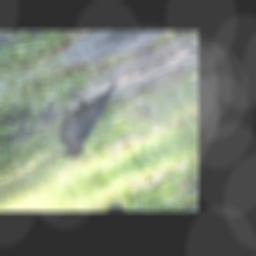Crow: (26, 72, 151, 165)
